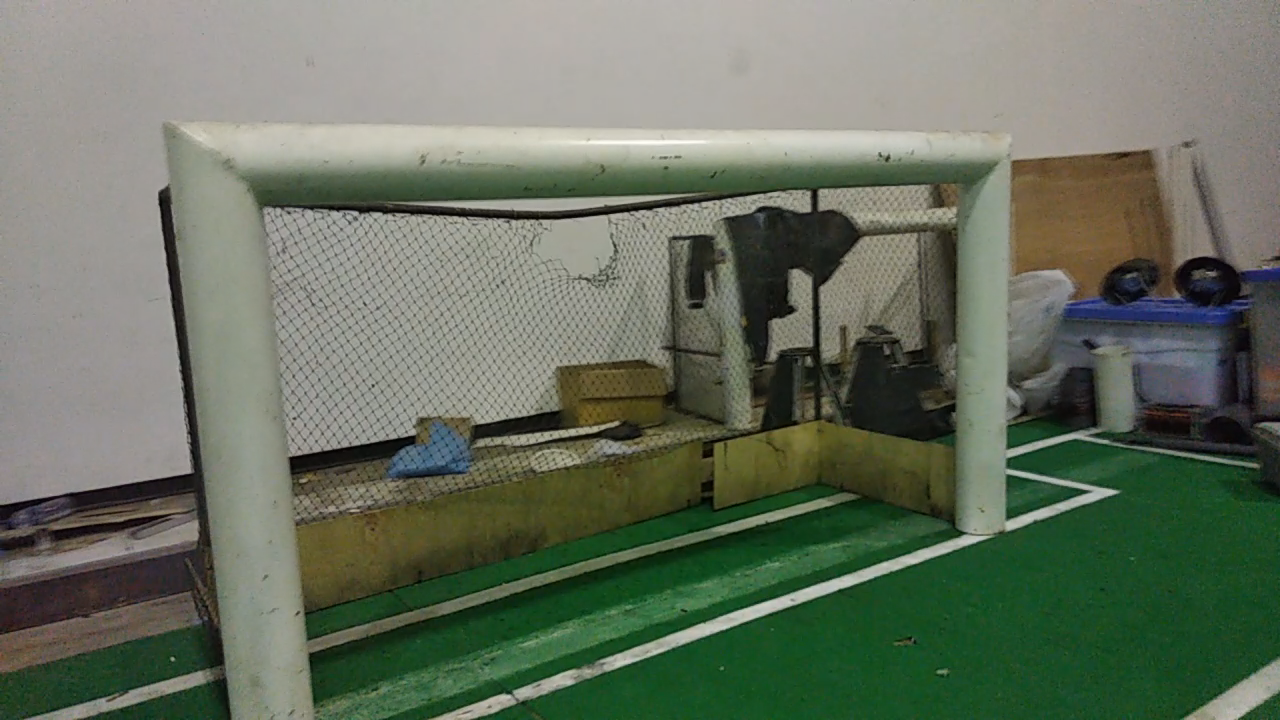gawang: (148, 97, 1026, 715)
